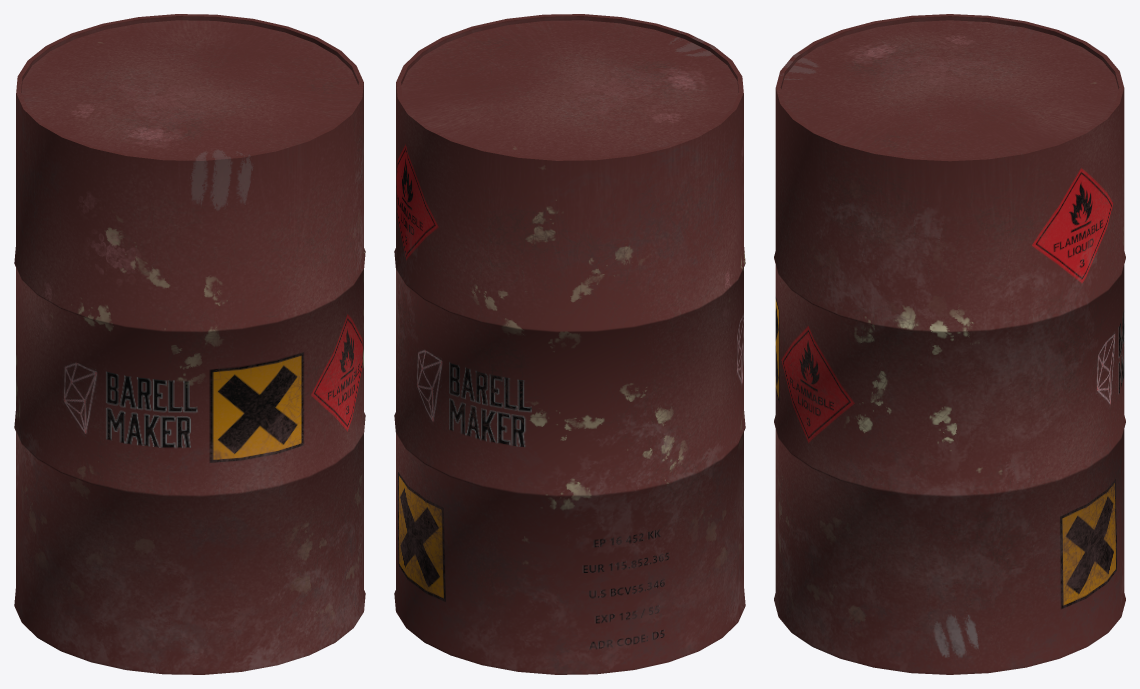
Rendered from CS_barell_o.FBX.
3 views of the same model, side by side, from view 1: azimuth 30°, elevation 25°; view 2: azimuth 150°, elevation 25°; view 3: azimuth 270°, elevation 25° (orthographic).
Parts seen in each view (by area): view 1: SM_barrel_bm; view 2: SM_barrel_bm; view 3: SM_barrel_bm.
Boxes of the visible parts, x1,y1,x2,y2 form: SM_barrel_bm: [14, 14, 365, 674]; SM_barrel_bm: [394, 14, 745, 674]; SM_barrel_bm: [774, 14, 1125, 674].
Bounding box in the file's own units: 82.92 × 82.92 × 134.
